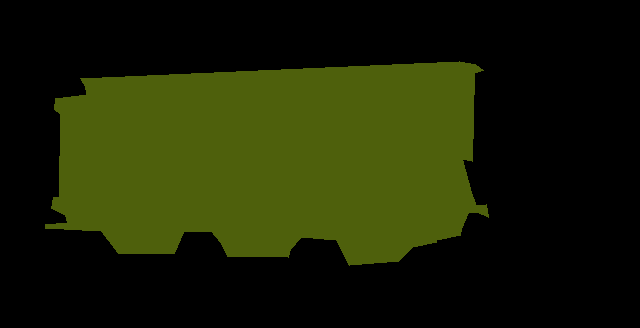Train: (45, 61, 489, 265)
